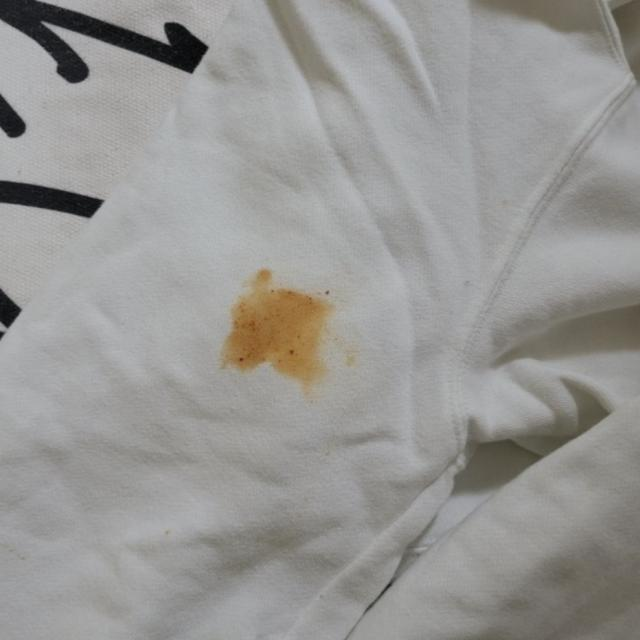kimchi: (217, 257, 368, 404)
